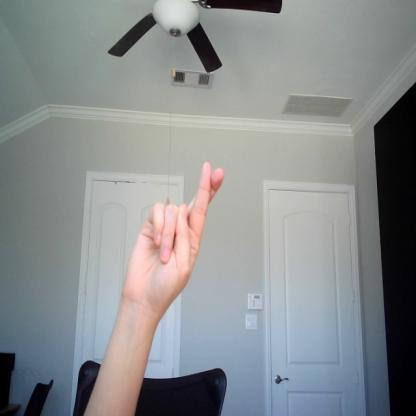R: (122, 160, 233, 305)
